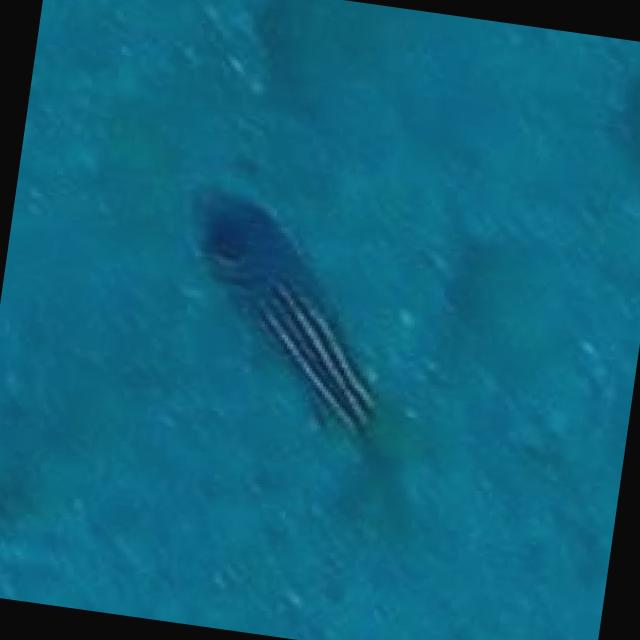Asker Baligi: (162, 178, 416, 448)
